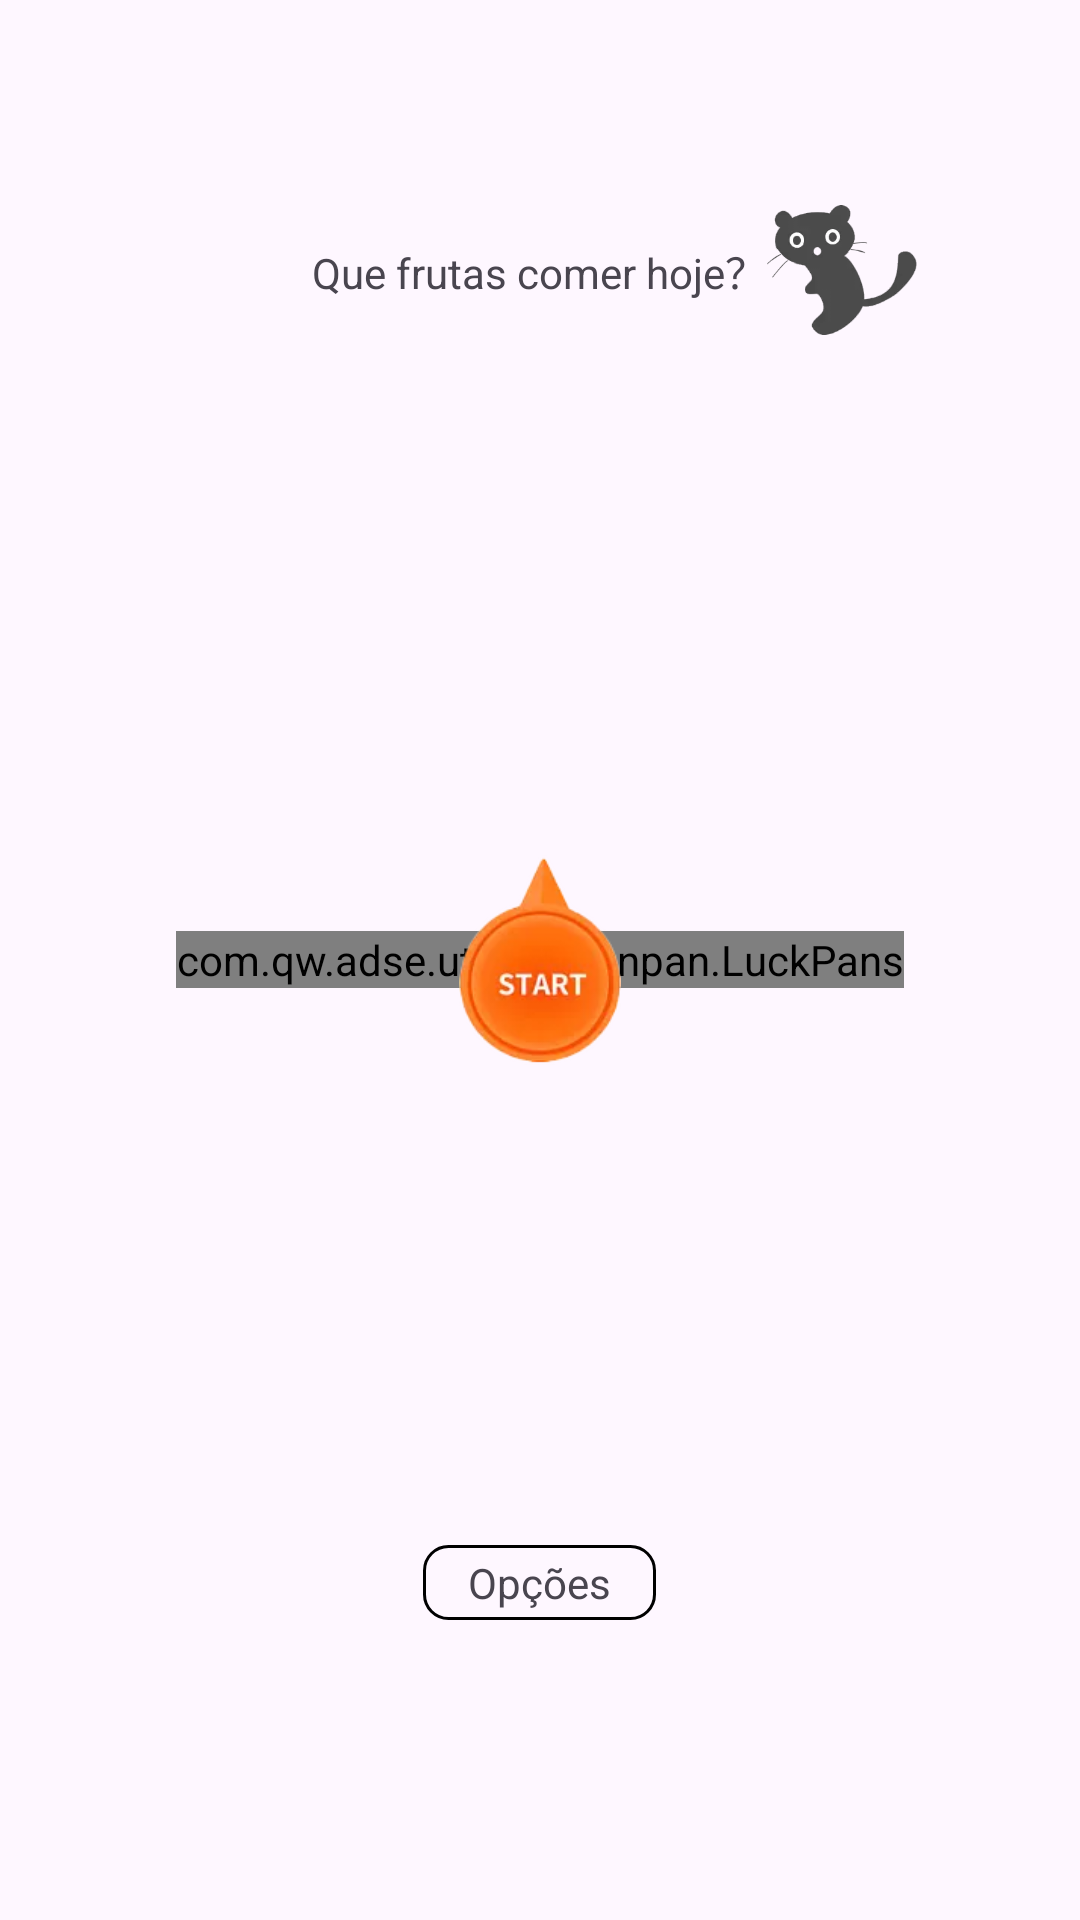

Named icons in this screenshot (1080w x 1920h) and their bounding boxes, (x1, y1, x2, y2):
mao: (767, 205, 917, 335)
